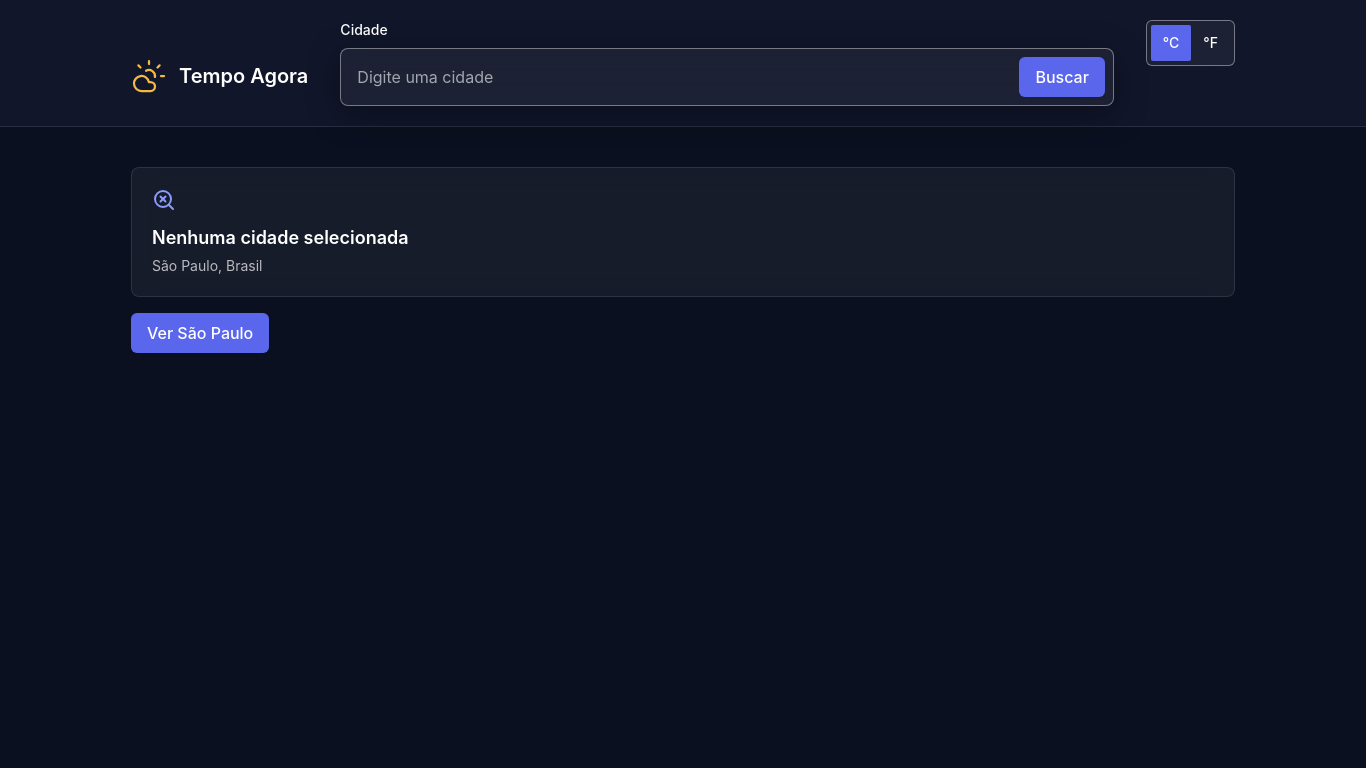
Test: App › refaz apenas a previsão ao tentar novamente depois de erro no clima
Click the button "Ver São Paulo".
click(200, 333)  # box [131, 313, 269, 353]
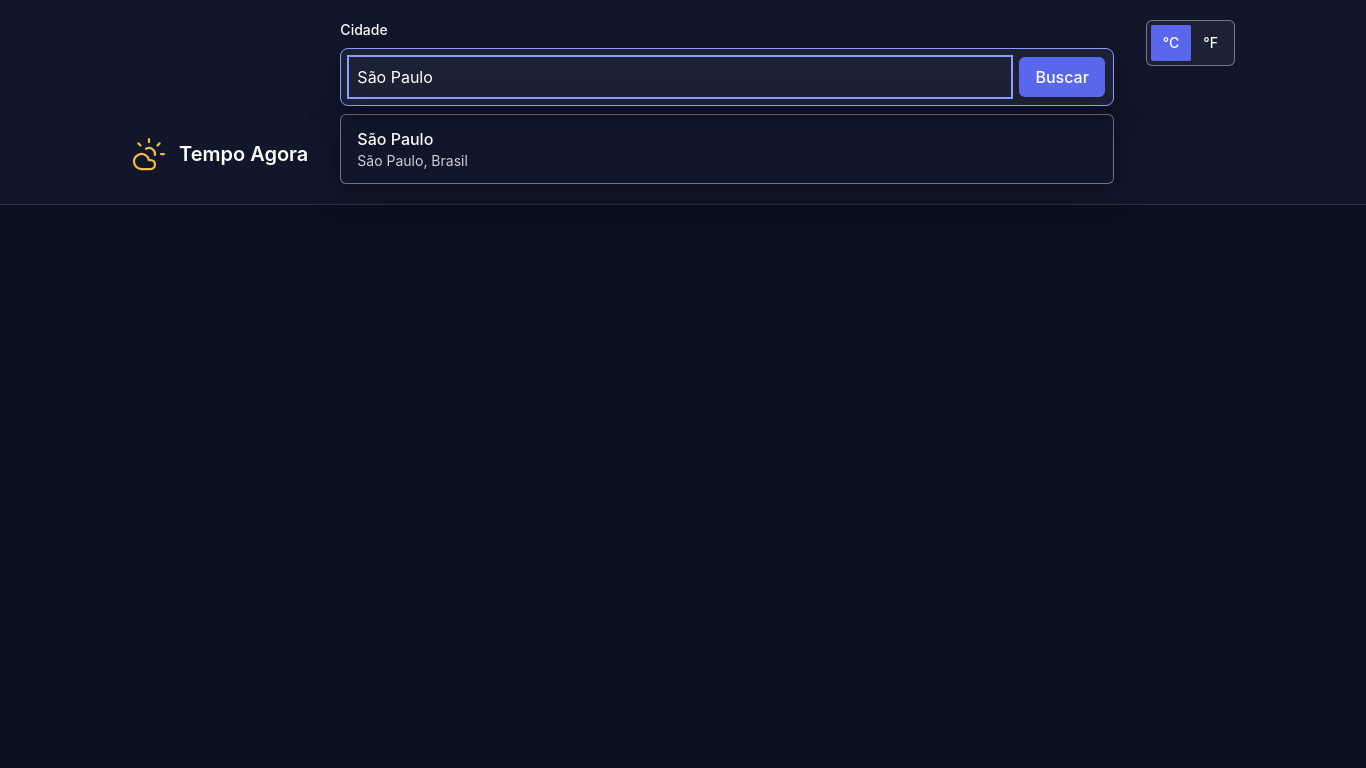
Click the option "São Paulo São Paulo, Brasil".
click(395, 139)  # box [341, 115, 1113, 183]
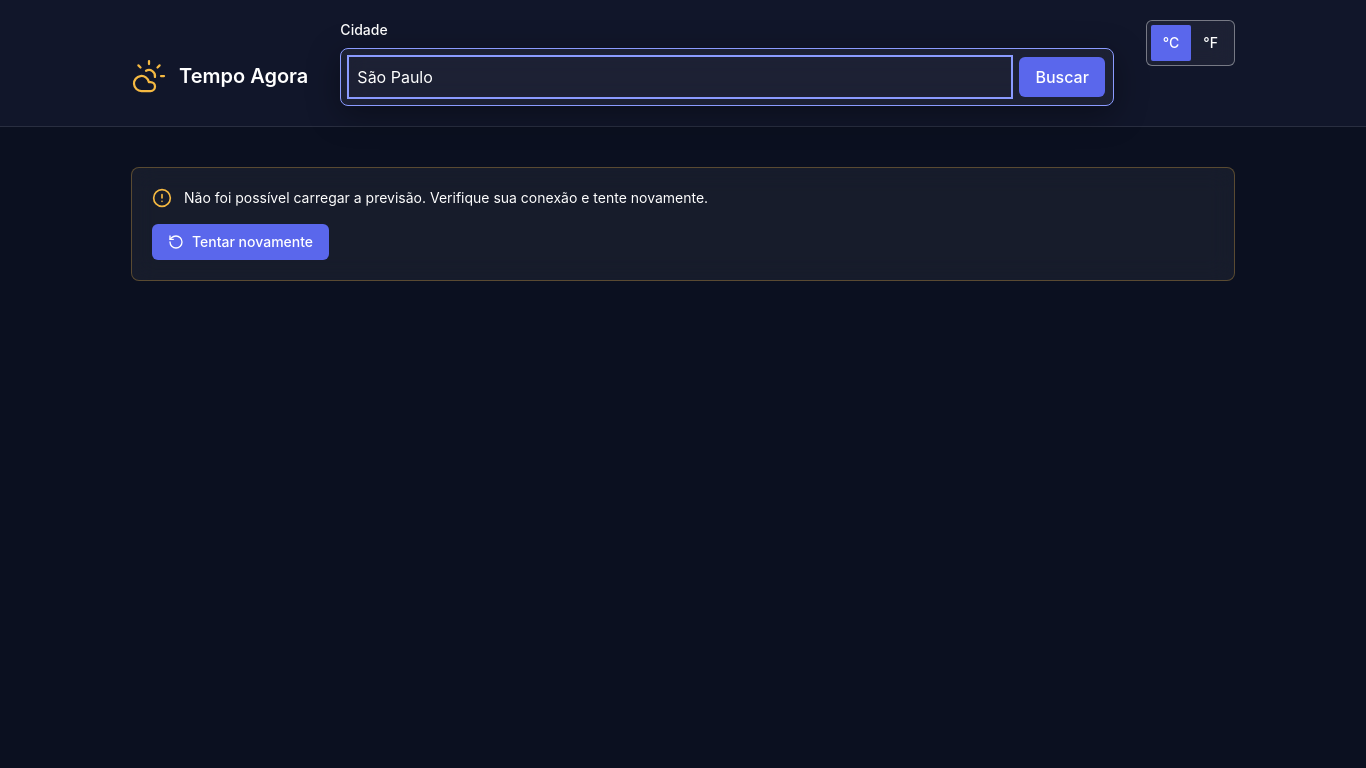
Check: the message shows "Não foi possível carregar a previsão. Verifique sua conexão e tente novamente.", box [184, 189, 708, 206]
Click the button "Tentar novamente".
click(241, 242)  # box [152, 224, 329, 260]
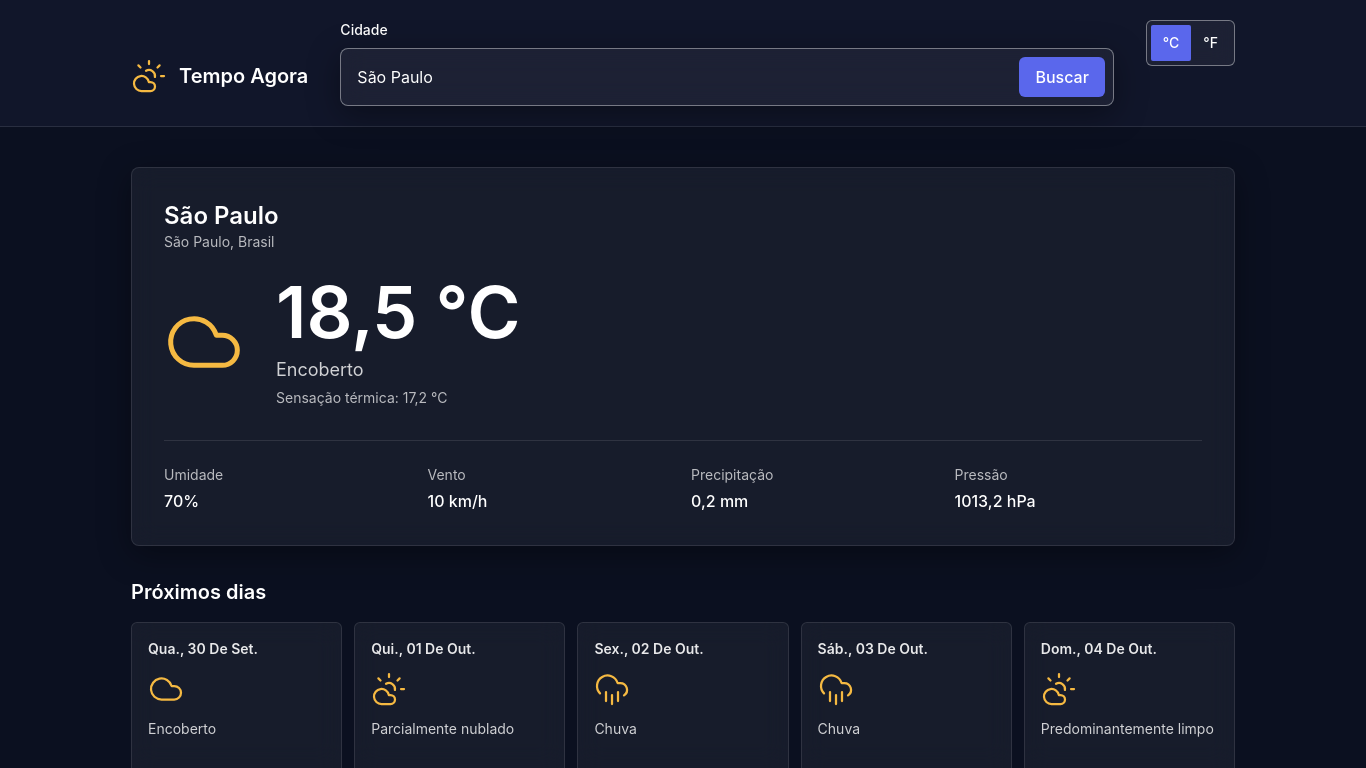
Check: the element named "Clima atual" is shown, box [131, 167, 1235, 546]
